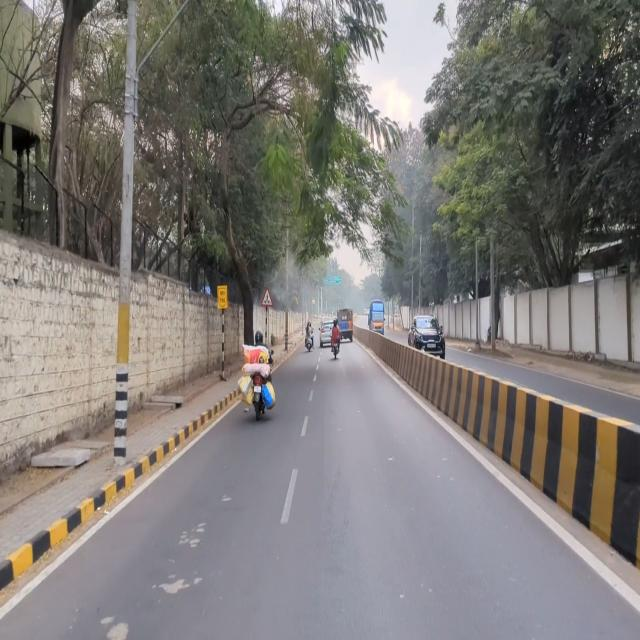bien_cam: (261, 287, 274, 307)
